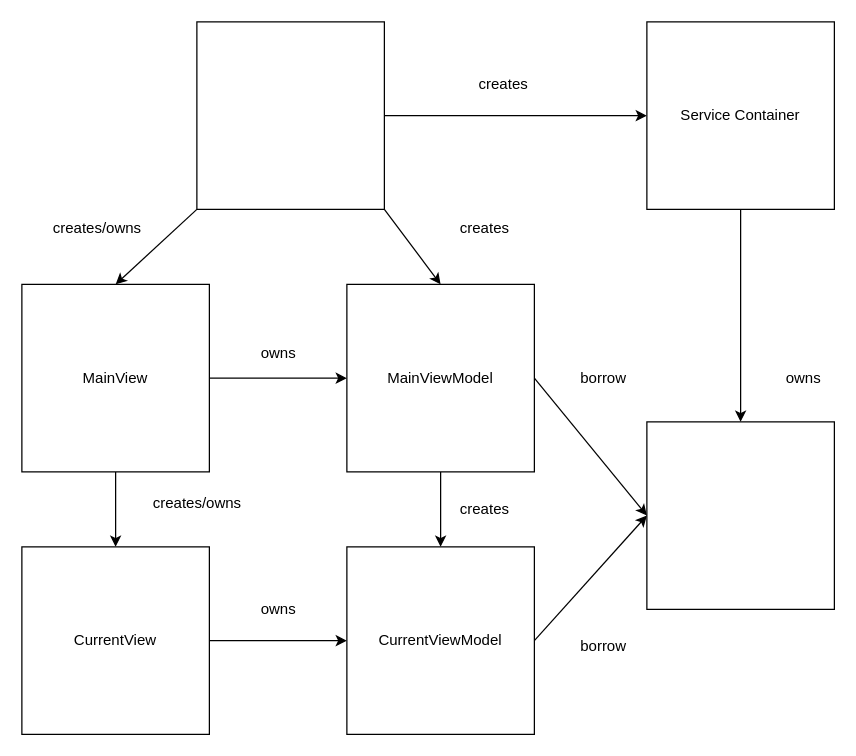
Image size: 856x756. Some labels were removed from this diagram. The shapes that lost their labels are listed below. From the top down, each one's box as (x1, y1, x2, y2) in pixels, then its label:
(196, 21, 384, 209): Main
(646, 421, 834, 609): Services
